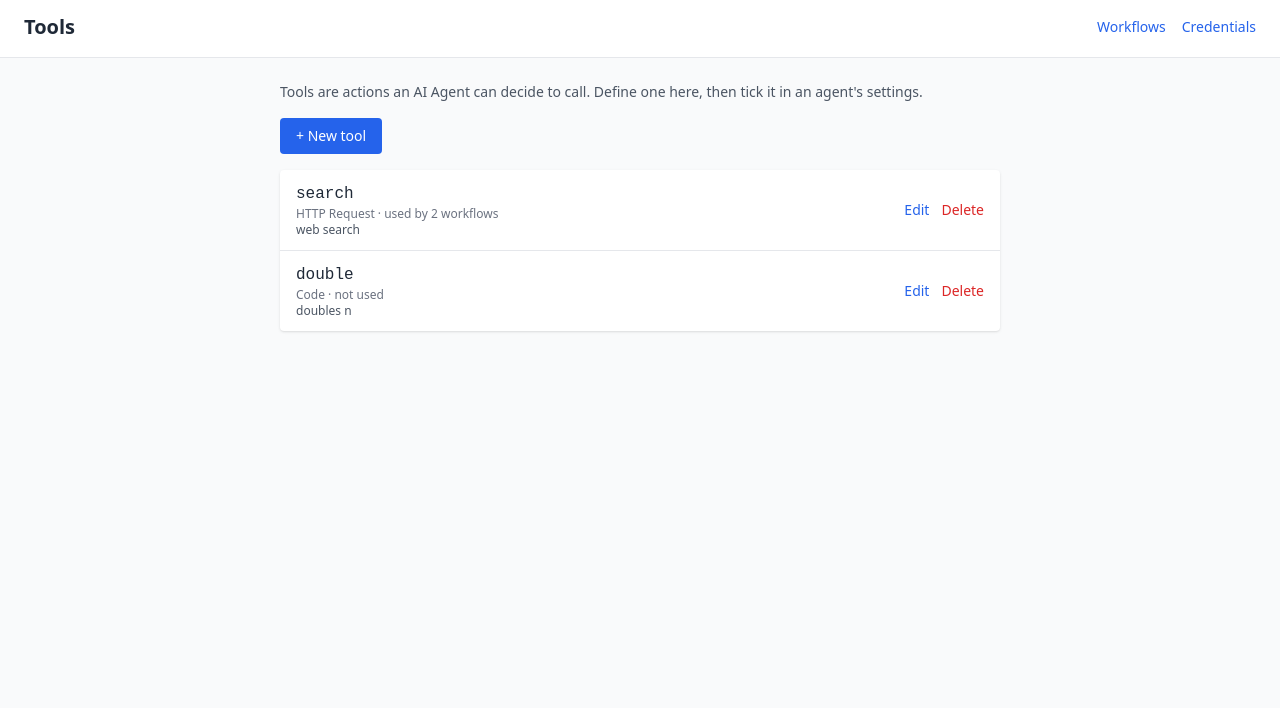
Scenario: ToolsView › rejects an invalid tool name before saving
The width and height of the screenshot is (1280, 708).
Click the button with test id "new-tool" at (331, 136), box top-left (280, 118), bottom-right (382, 154)
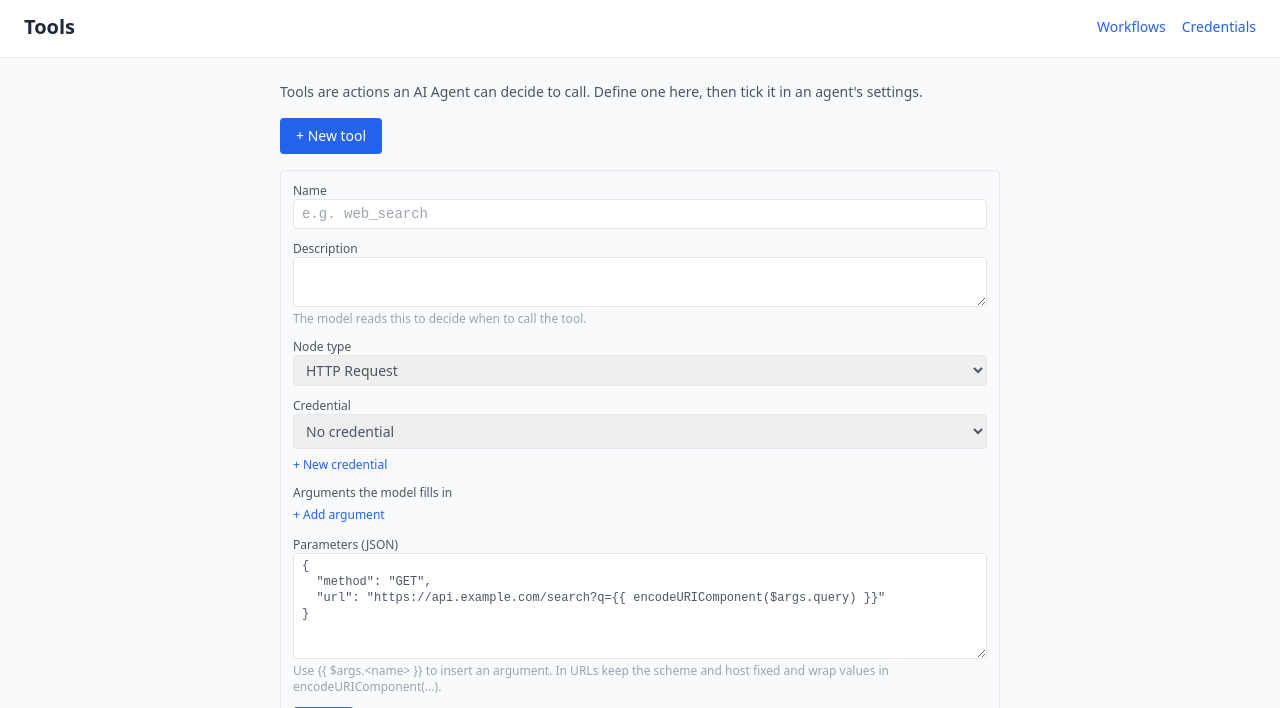
Type "has space" into the field named "Name" at (640, 214), box top-left (293, 199), bottom-right (987, 229)
(page scrolled)
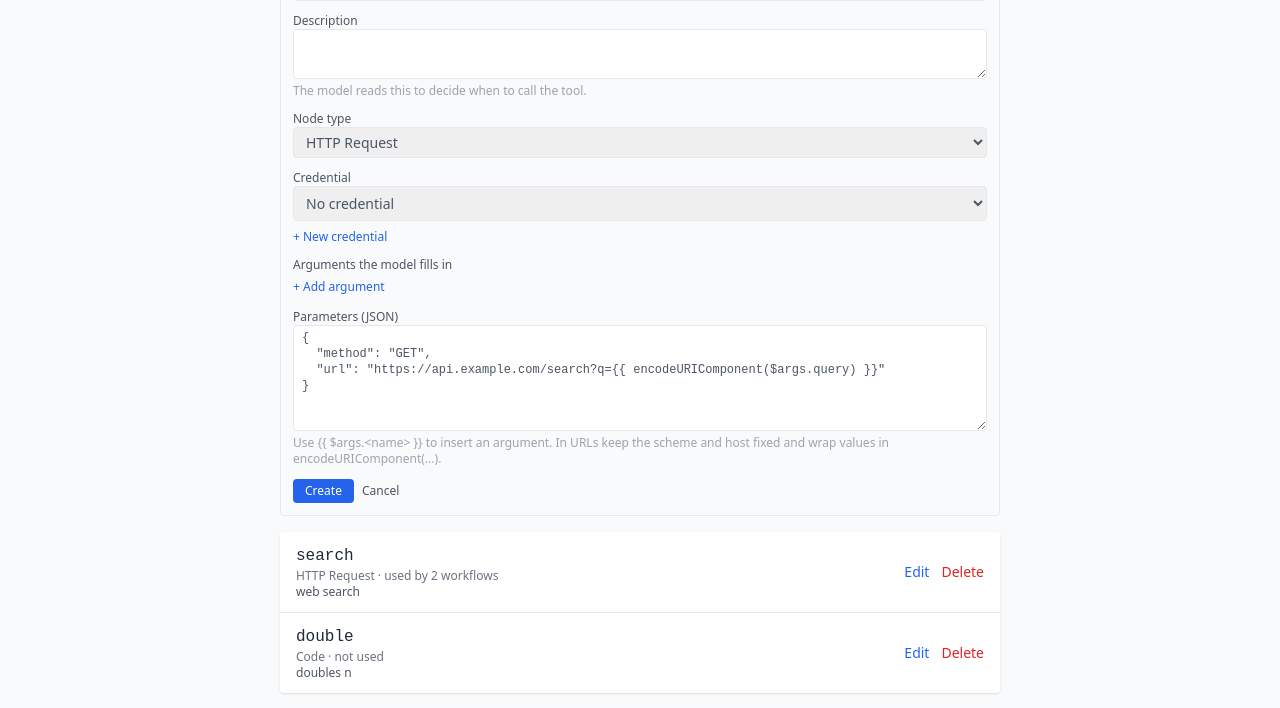
Click the button with test id "save-tool" at (323, 491), box top-left (293, 479), bottom-right (354, 503)
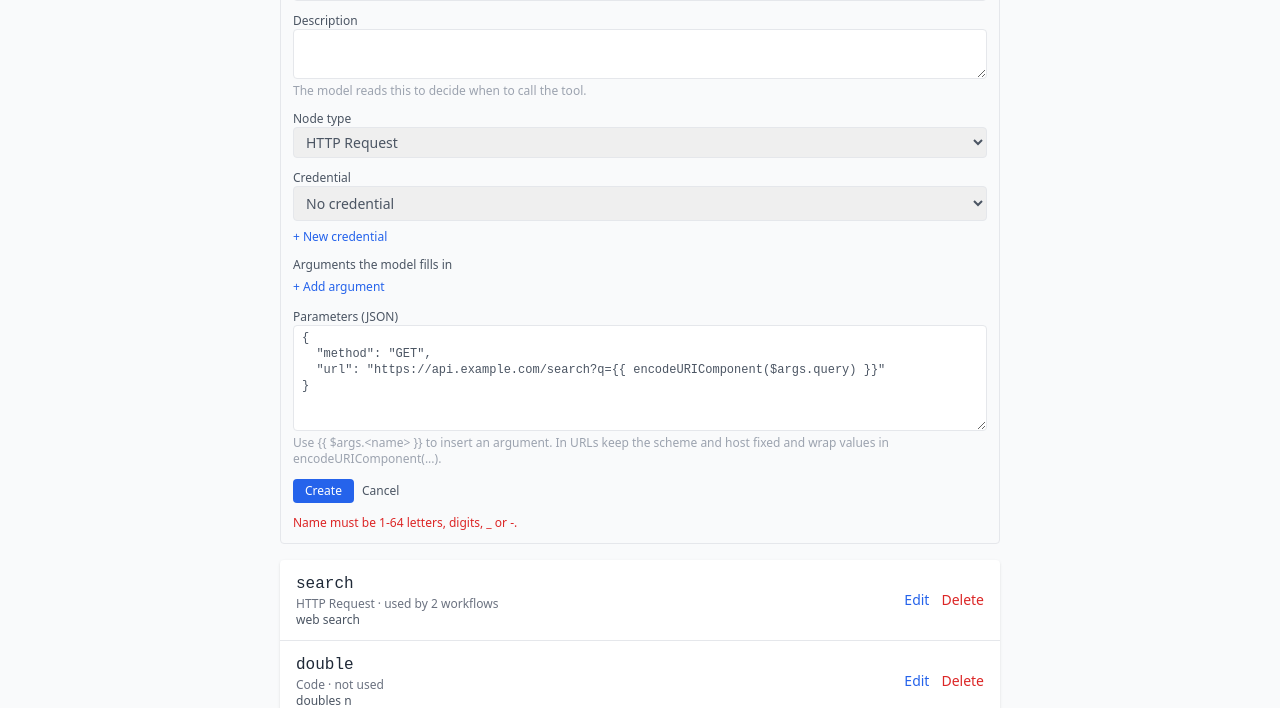
Check: the text "Name must be 1-64 letters, digits, _ or -." is shown, box top-left (293, 514), bottom-right (517, 531)
